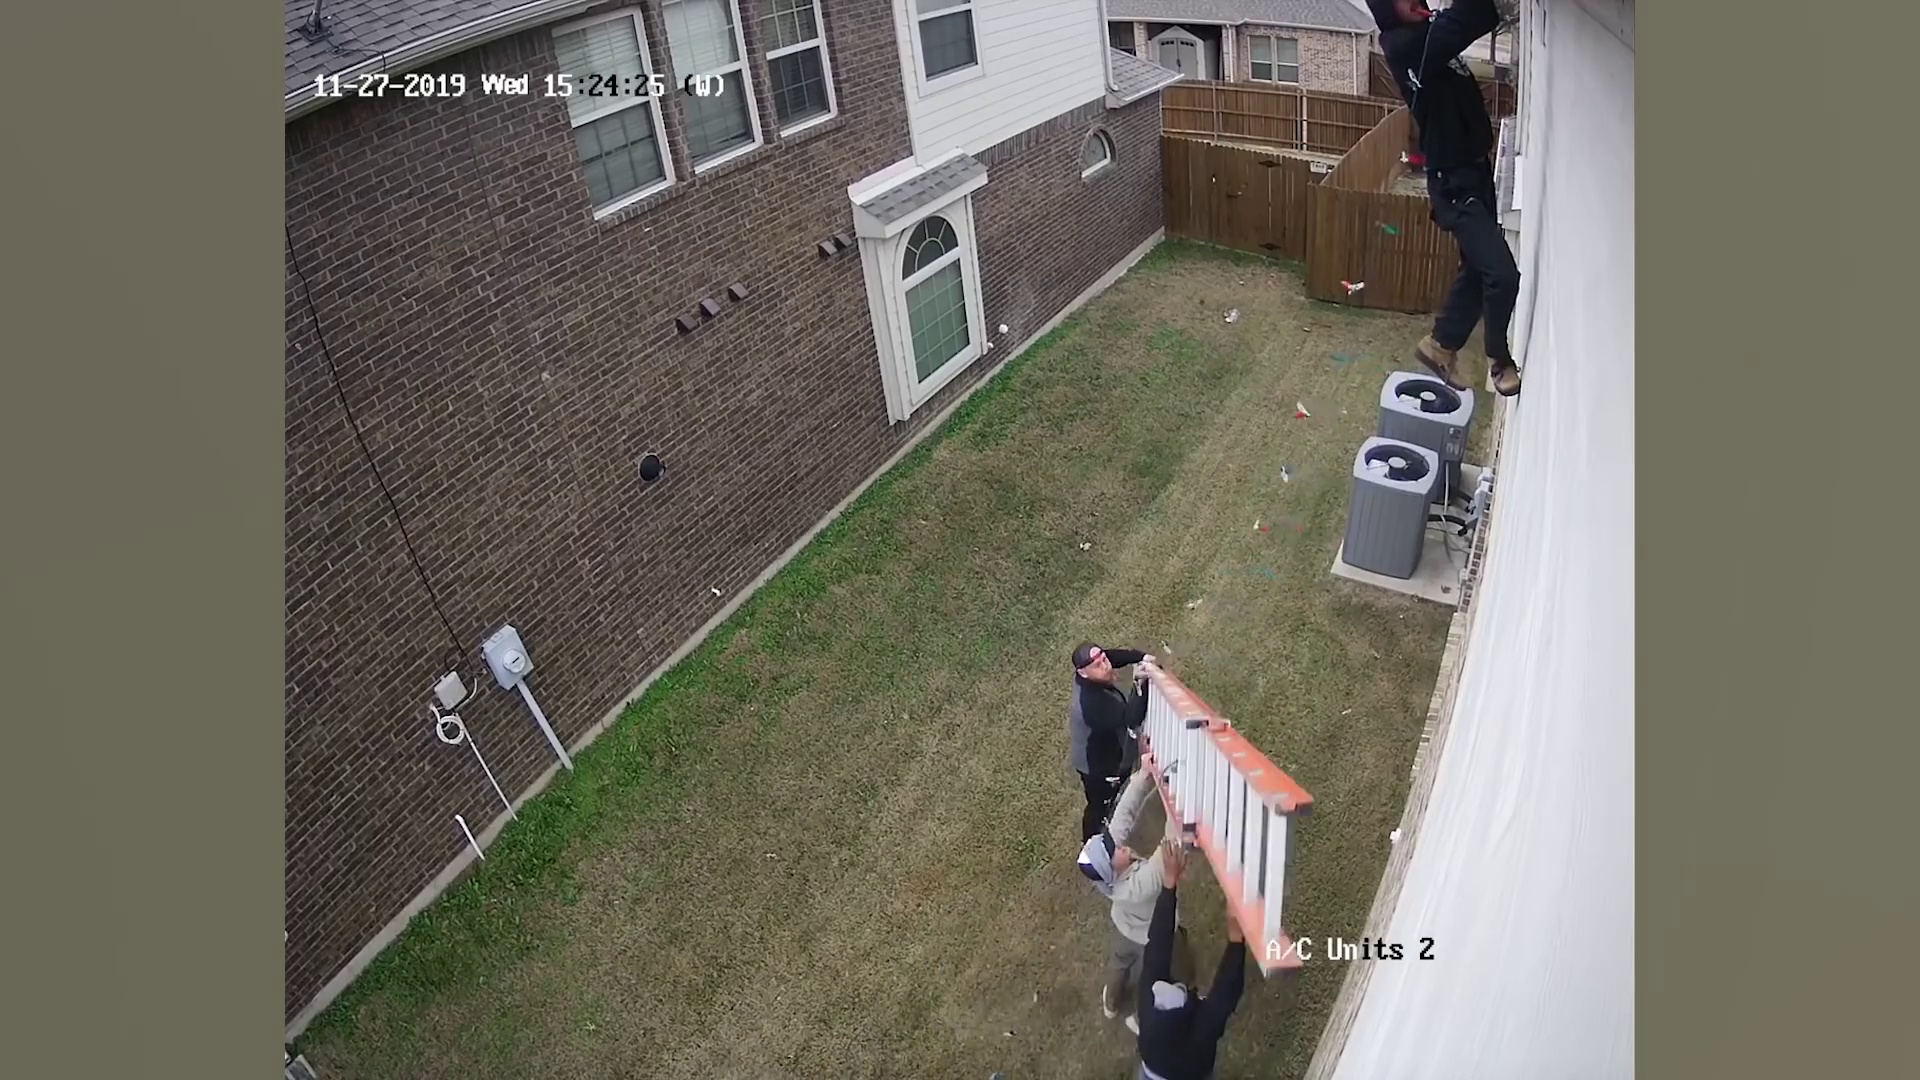face: (1102, 838, 1132, 869), (1081, 653, 1112, 682)
